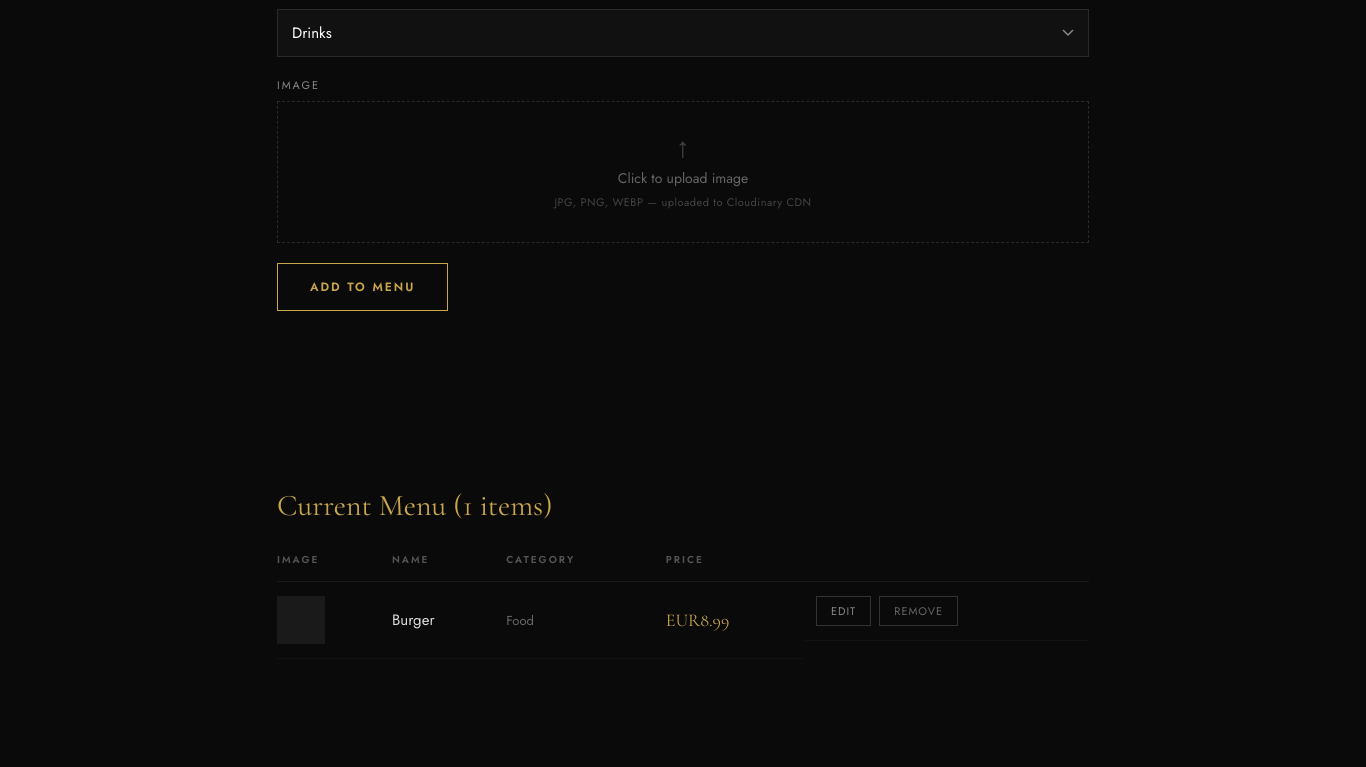
Test: AdminPage › exits edit mode when Cancel is clicked
This screenshot has width=1366, height=767.
(page scrolled)
Expected: the text "Burger" is shown, [380,582,494,658]
Click the button "Edit" at (844, 611), box [816,596,871,626]
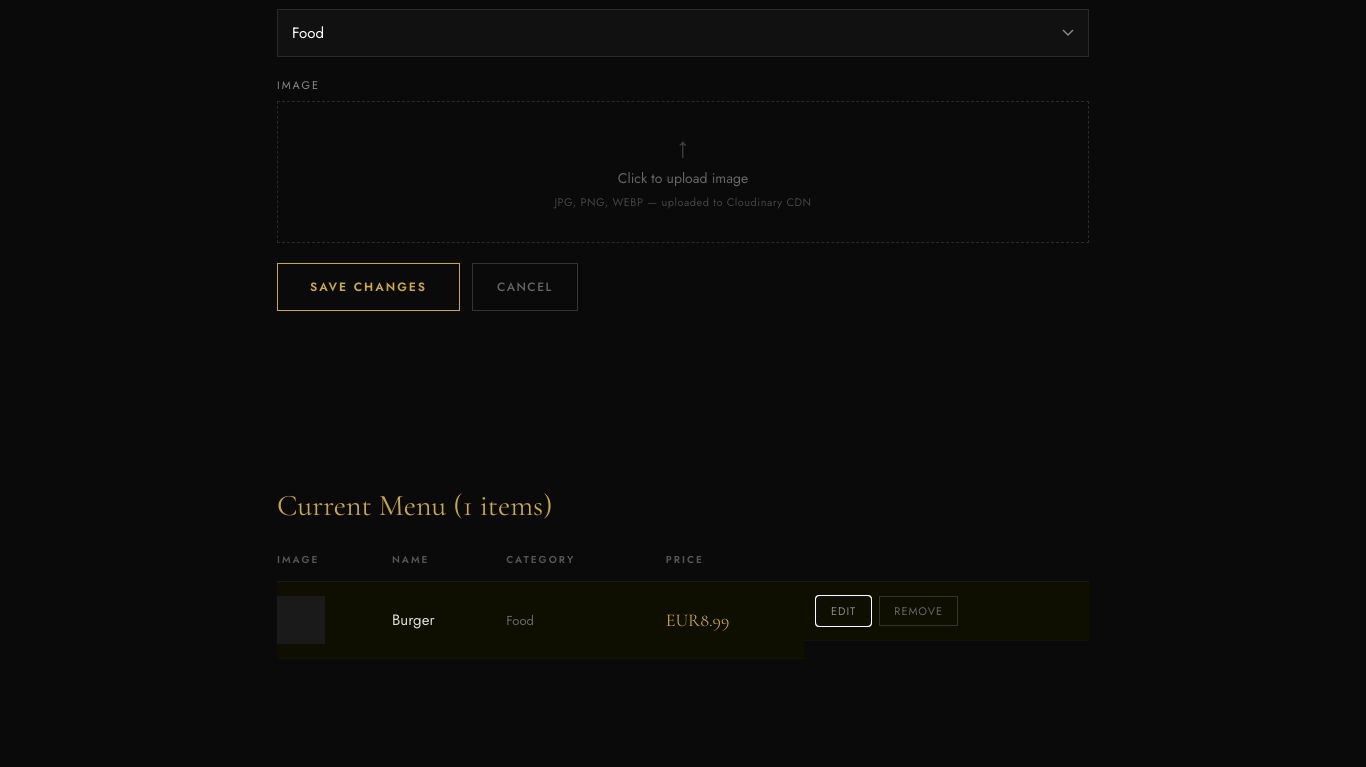
Click the button "Cancel" at (525, 287), box [472,263,578,311]
(page scrolled)
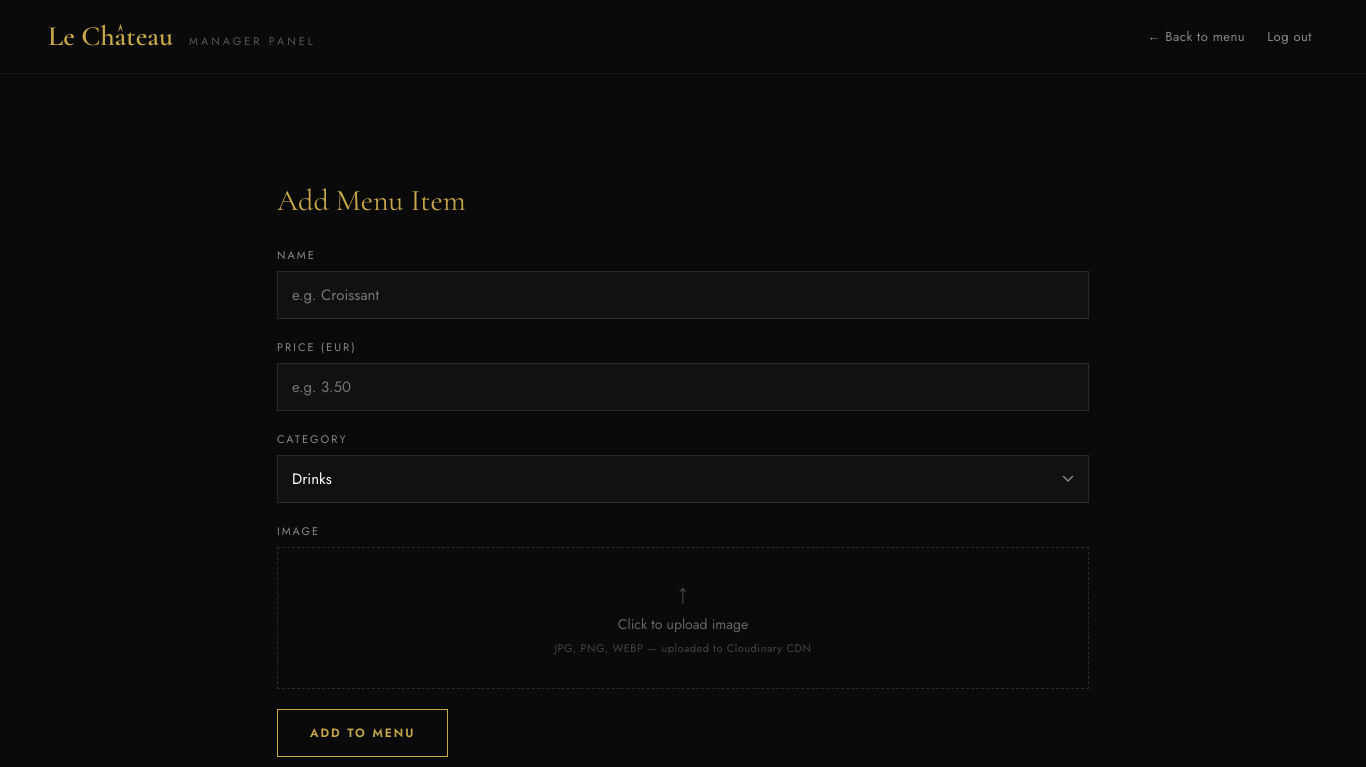
Expected: the heading "Add Menu Item" is shown, [277,182,466,219]
